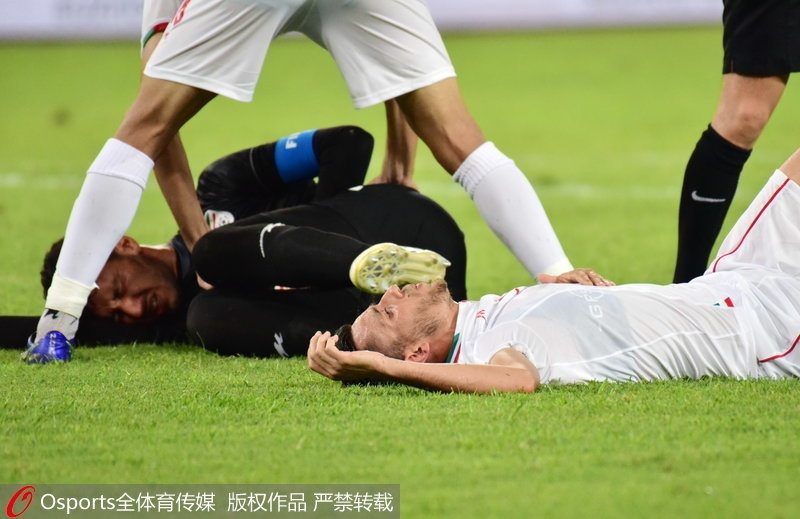falling: (298, 24, 773, 387)
